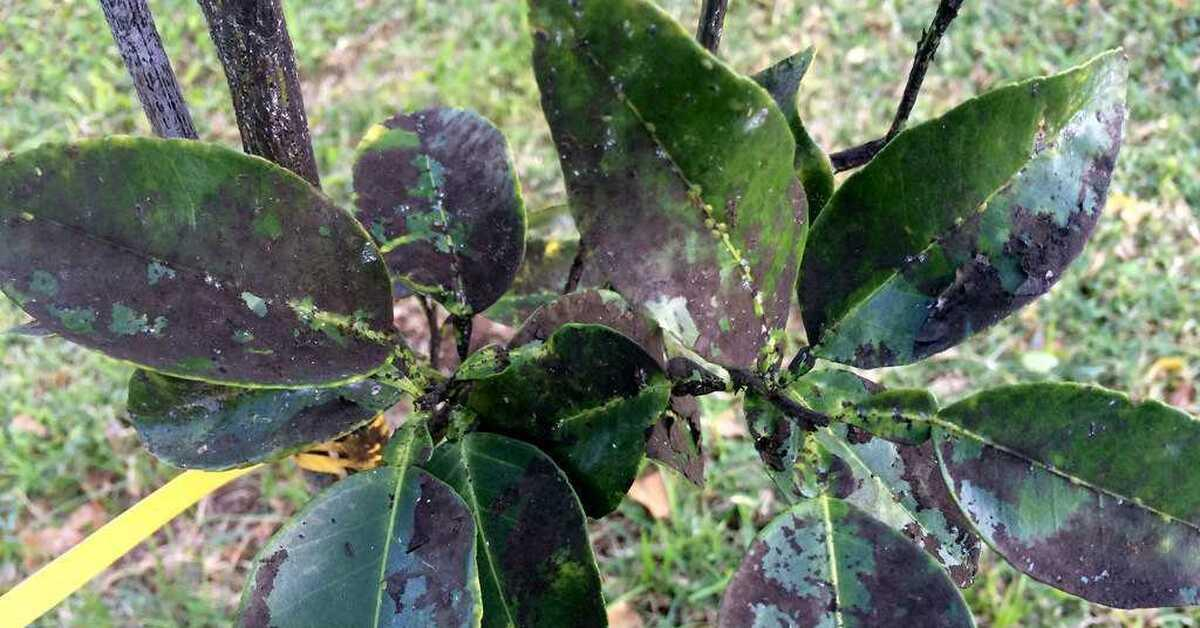soot dew: (0, 145, 396, 385), (530, 39, 799, 378), (920, 97, 1126, 359), (352, 110, 527, 319), (447, 332, 654, 452), (991, 493, 1199, 607), (494, 455, 602, 627), (798, 217, 930, 349), (840, 508, 973, 627), (380, 475, 480, 625), (508, 290, 668, 374), (898, 438, 982, 588), (720, 534, 831, 627), (940, 436, 1075, 502), (649, 398, 708, 487), (285, 398, 376, 451), (239, 551, 290, 627), (756, 417, 793, 470), (816, 456, 861, 499), (787, 174, 812, 233)
